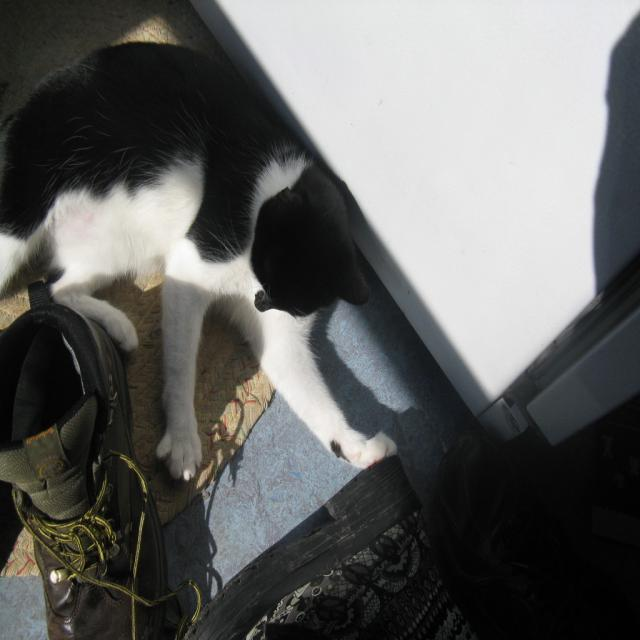Cat: (0, 39, 398, 474)
